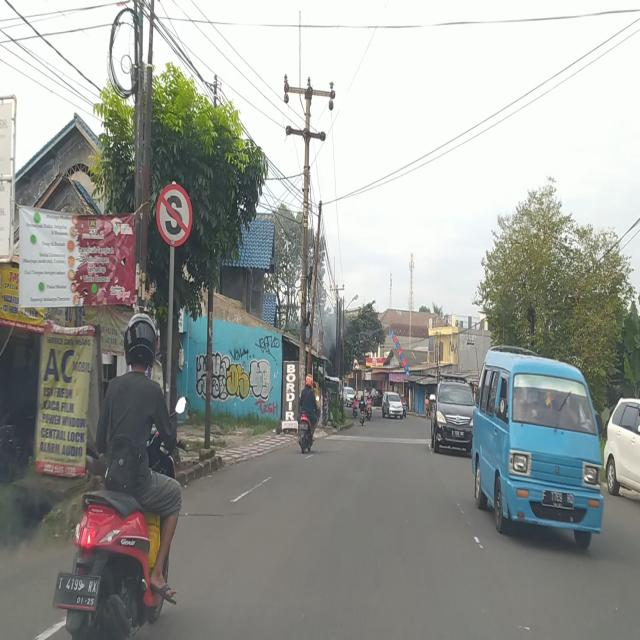Sewer Cover: (174, 504, 236, 516)
